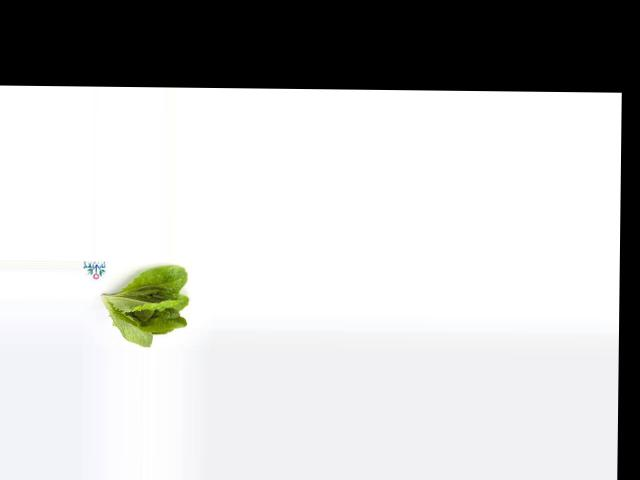lettuce: (100, 266, 192, 349)
